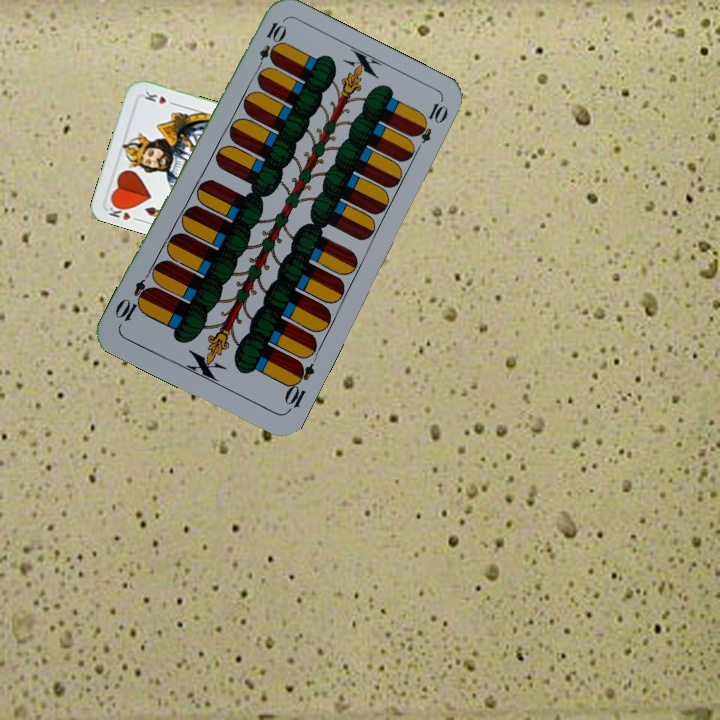E10: (280, 357, 317, 415), (252, 18, 287, 75)
HK: (104, 199, 144, 224)
